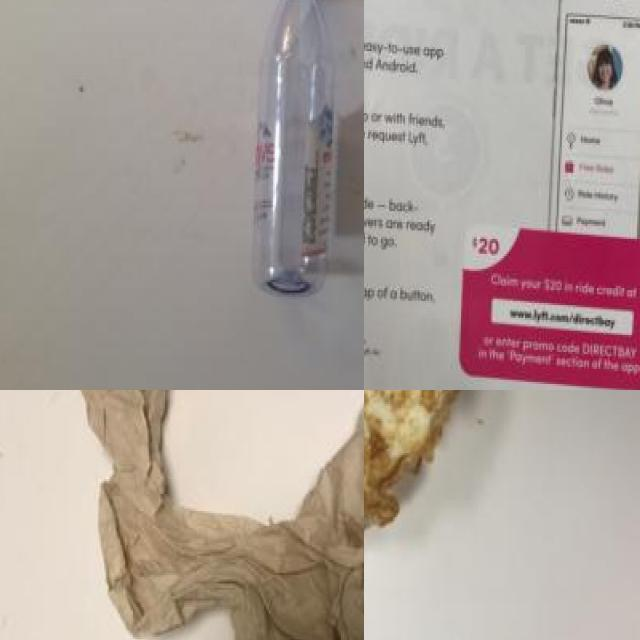compost: (364, 390, 504, 558)
paper: (364, 0, 640, 390)
plastic: (260, 0, 344, 299)
trash: (52, 390, 364, 640)
